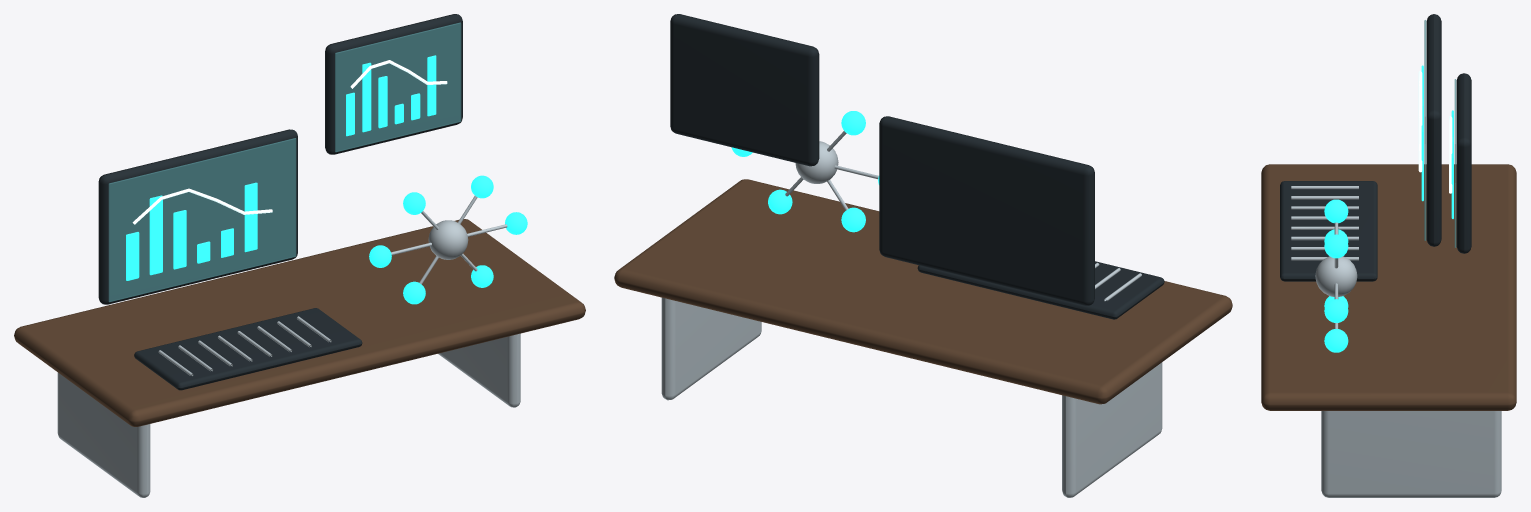
File: jobnest.glb
3 renders of one model, left to right at view 1: azimuth 30°, elevation 25°; view 2: azimuth 150°, elevation 25°; view 3: azimuth 270°, elevation 25°, orthographic. The views are drawn at different scales.
Parts seen in each view (by area): view 1: Analytics desk, JobNest_Analytics, JobNest_Analytics_Glass, JobNest_Benchmarking, JobNest_Benchmarking_Glass, Laptop keyboard, Desk supports, Desk supports.001, Candidate hub, JobNest_Analytics_AbstractChart.001, JobNest_Analytics_AbstractChart.005, JobNest_Analytics_AbstractChart.002 (+2 smaller); view 2: Analytics desk, JobNest_Analytics, JobNest_Benchmarking, Desk supports, Desk supports.001, Laptop keyboard, Candidate hub; view 3: Analytics desk, Desk supports.001, Laptop keyboard, JobNest_Analytics, JobNest_Benchmarking, Candidate hub, JobNest_Analytics_Glass, JobNest_Benchmarking_Glass, Feature_Benchmark, Feature_Authentication, Feature_Skill_Gap, Feature_Dashboard (+1 smaller).
Part boxes in pixels (x1,y1,x2,y2): Analytics desk: (14,219,585,426); JobNest_Analytics: (98,129,297,304); JobNest_Analytics_Glass: (108,138,296,302); JobNest_Benchmarking: (325,14,462,154); JobNest_Benchmarking_Glass: (335,22,461,152); Laptop keyboard: (134,308,362,390); Desk supports: (57,372,150,497); Desk supports.001: (438,333,520,407); Candidate hub: (428,220,468,259); JobNest_Analytics_AbstractChart.001: (149,195,162,275); JobNest_Analytics_AbstractChart.005: (244,182,257,252); JobNest_Analytics_AbstractChart.002: (173,210,186,269); Analytics desk: (614,179,1232,404); JobNest_Analytics: (879,116,1094,305); JobNest_Benchmarking: (670,14,819,166); Desk supports: (1062,362,1162,497); Desk supports.001: (661,297,761,400); Laptop keyboard: (917,261,1164,319); Candidate hub: (795,141,838,183); Analytics desk: (1261,164,1516,410); Desk supports.001: (1321,411,1501,497); Laptop keyboard: (1280,181,1377,281); JobNest_Analytics: (1426,14,1441,246); JobNest_Benchmarking: (1456,73,1471,253); Candidate hub: (1315,256,1357,296); JobNest_Analytics_Glass: (1424,20,1426,240); JobNest_Benchmarking_Glass: (1454,79,1456,247); Feature_Benchmark: (1324,234,1348,258); Feature_Authentication: (1324,199,1348,223); Feature_Skill_Gap: (1324,299,1348,322); Feature_Dashboard: (1324,329,1348,352).
Bounding box in the file's own units: 3.7 × 2.67 × 1.7.
